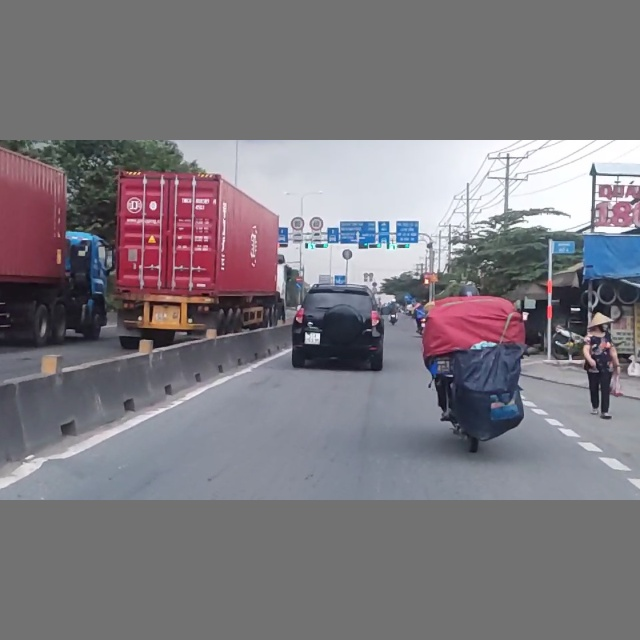P.102: (295, 276, 303, 282)
P.127*60: (309, 215, 324, 231)
P.127*80: (291, 217, 305, 231)
R.302a: (295, 283, 302, 289)
